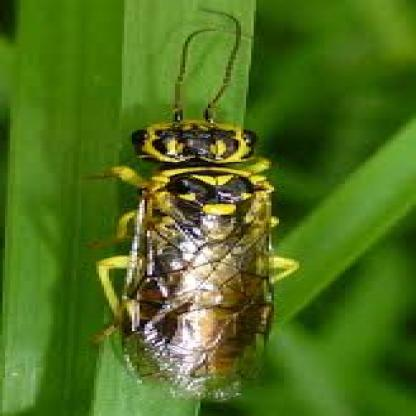sawfly: (67, 8, 312, 411)
